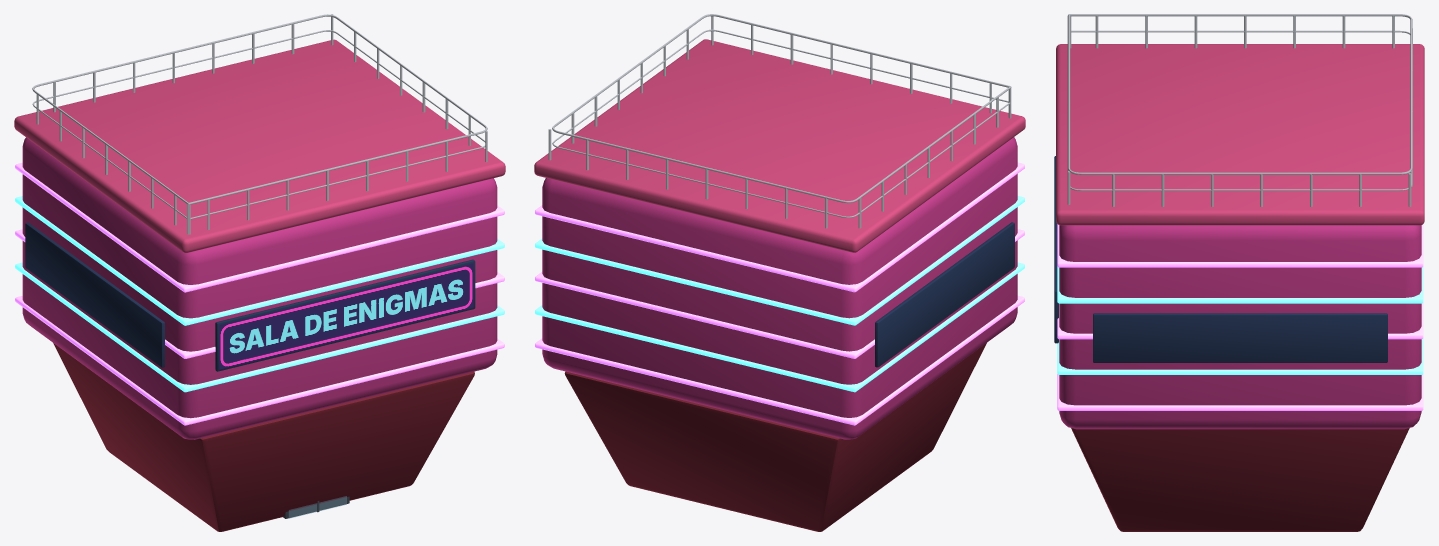
File: sala_enigmas.glb
3 views of the same model, side by side, from view 1: azimuth 30°, elevation 25°; view 2: azimuth 150°, elevation 25°; view 3: azimuth 270°, elevation 25° (orthographic). The views are drawn at different scales.
Parts seen in each view (by area): view 1: sala_enigmas; view 2: sala_enigmas; view 3: sala_enigmas.
Boxes of the visible parts, left/top/right/bottom form: sala_enigmas: left=14, top=14, right=505, bottom=531; sala_enigmas: left=534, top=14, right=1025, bottom=531; sala_enigmas: left=1054, top=14, right=1424, bottom=531.
Size of the model in its own units: 12.58 by 13.03 by 11.25.
5 materials, 2 textured.
